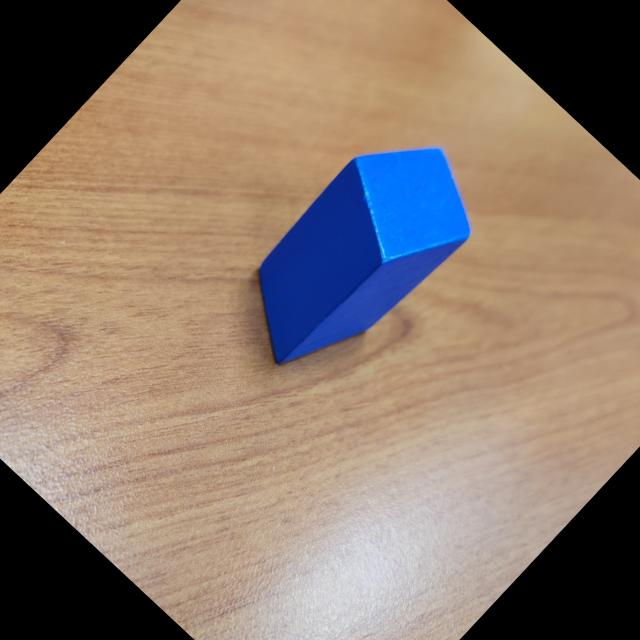blue: (213, 107, 502, 402)
